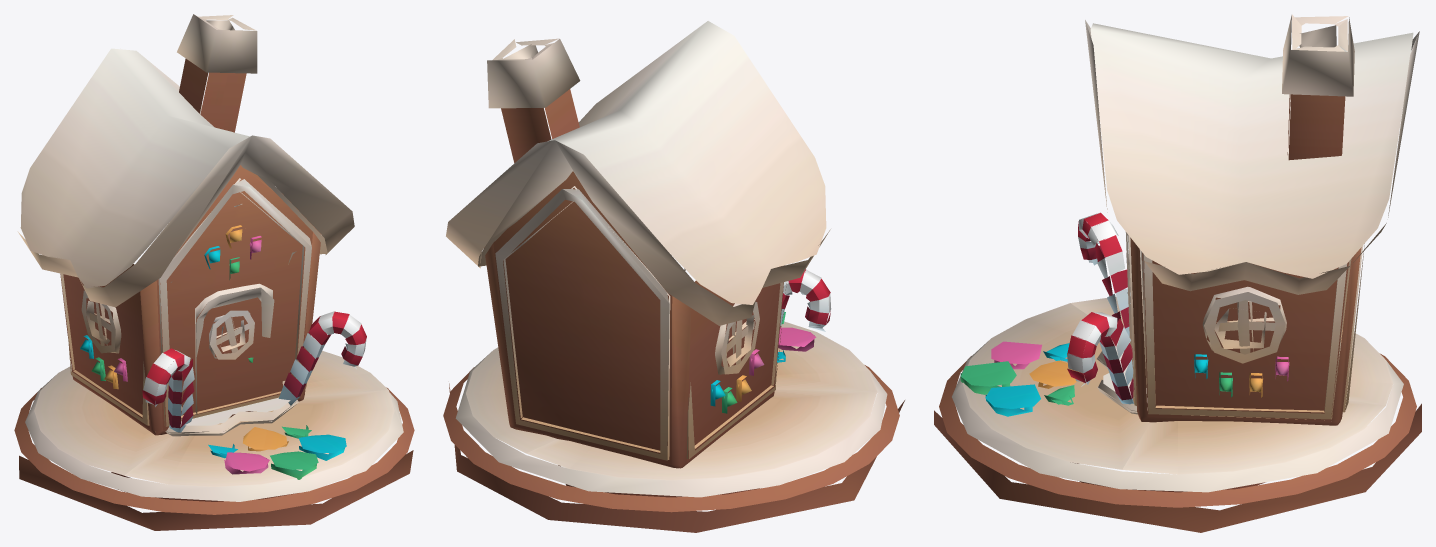
File: kue.glb
3 views of the same model, side by side, from view 1: azimuth 30°, elevation 25°; view 2: azimuth 150°, elevation 25°; view 3: azimuth 270°, elevation 25° (orthographic). The views are drawn at different scales.
Parts seen in each view (by area): view 1: gingerbread_house_decorated; view 2: gingerbread_house_decorated; view 3: gingerbread_house_decorated.
Boxes of the visible parts, left/top/right/bottom form: gingerbread_house_decorated: left=14, top=14, right=414, bottom=530; gingerbread_house_decorated: left=443, top=21, right=904, bottom=532; gingerbread_house_decorated: left=934, top=14, right=1421, bottom=532.
Bounding box in the file's own units: 6.82 × 7.04 × 6.75.
Materials: 1 (1 with a texture image).
